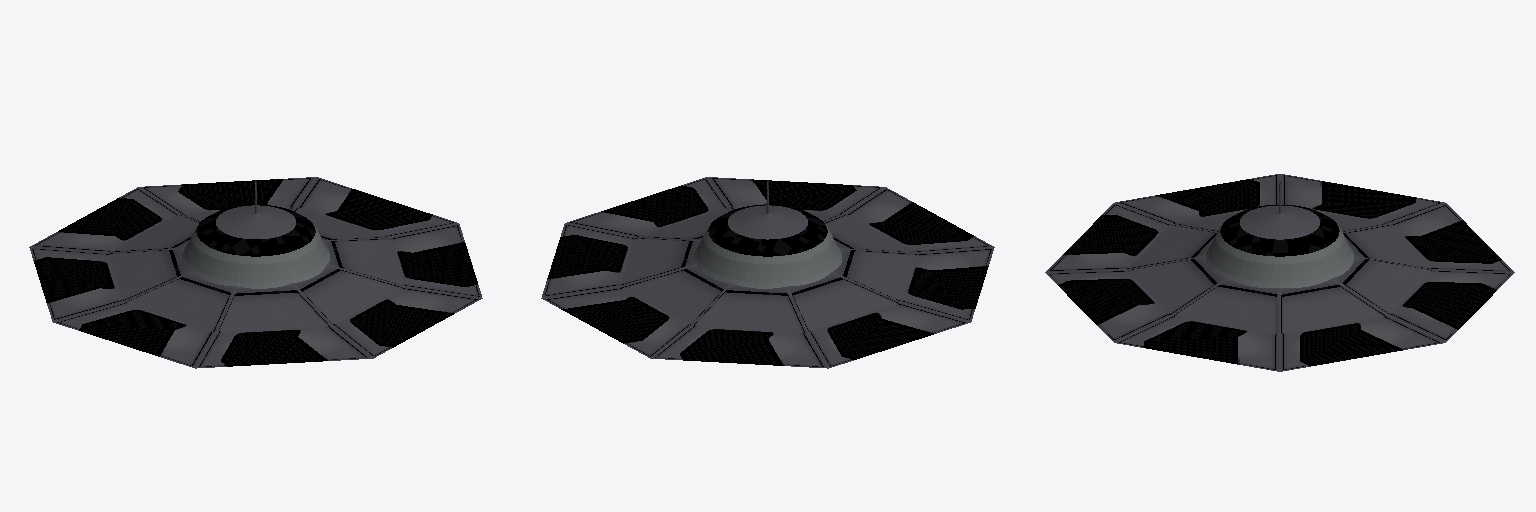
The picture shows the model from 3 angles: view 1: azimuth 30°, elevation 25°; view 2: azimuth 150°, elevation 25°; view 3: azimuth 270°, elevation 25°; orthographic projection.
Parts seen in each view (by area): view 1: disco_Circle.003, cabine_Circle; view 2: disco_Circle.003, cabine_Circle; view 3: disco_Circle.003, cabine_Circle.
Part boxes in pixels (left/top/right/bottom): disco_Circle.003: left=29, top=177, right=482, bottom=368; cabine_Circle: left=182, top=181, right=329, bottom=288; disco_Circle.003: left=541, top=177, right=994, bottom=368; cabine_Circle: left=694, top=181, right=841, bottom=288; disco_Circle.003: left=1045, top=174, right=1514, bottom=371; cabine_Circle: left=1206, top=181, right=1353, bottom=287.
Size of the model in its own units: 2.1 by 0.7608 by 2.1.
3 materials, 1 textured.